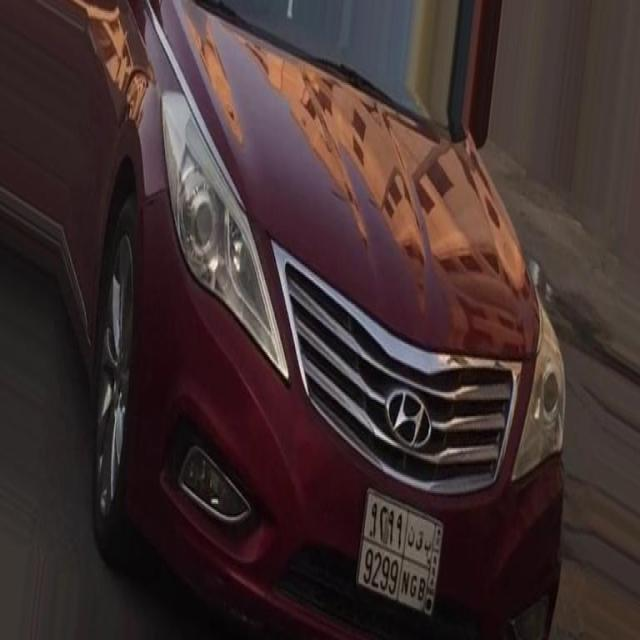Car-plate: (355, 472, 447, 624)
